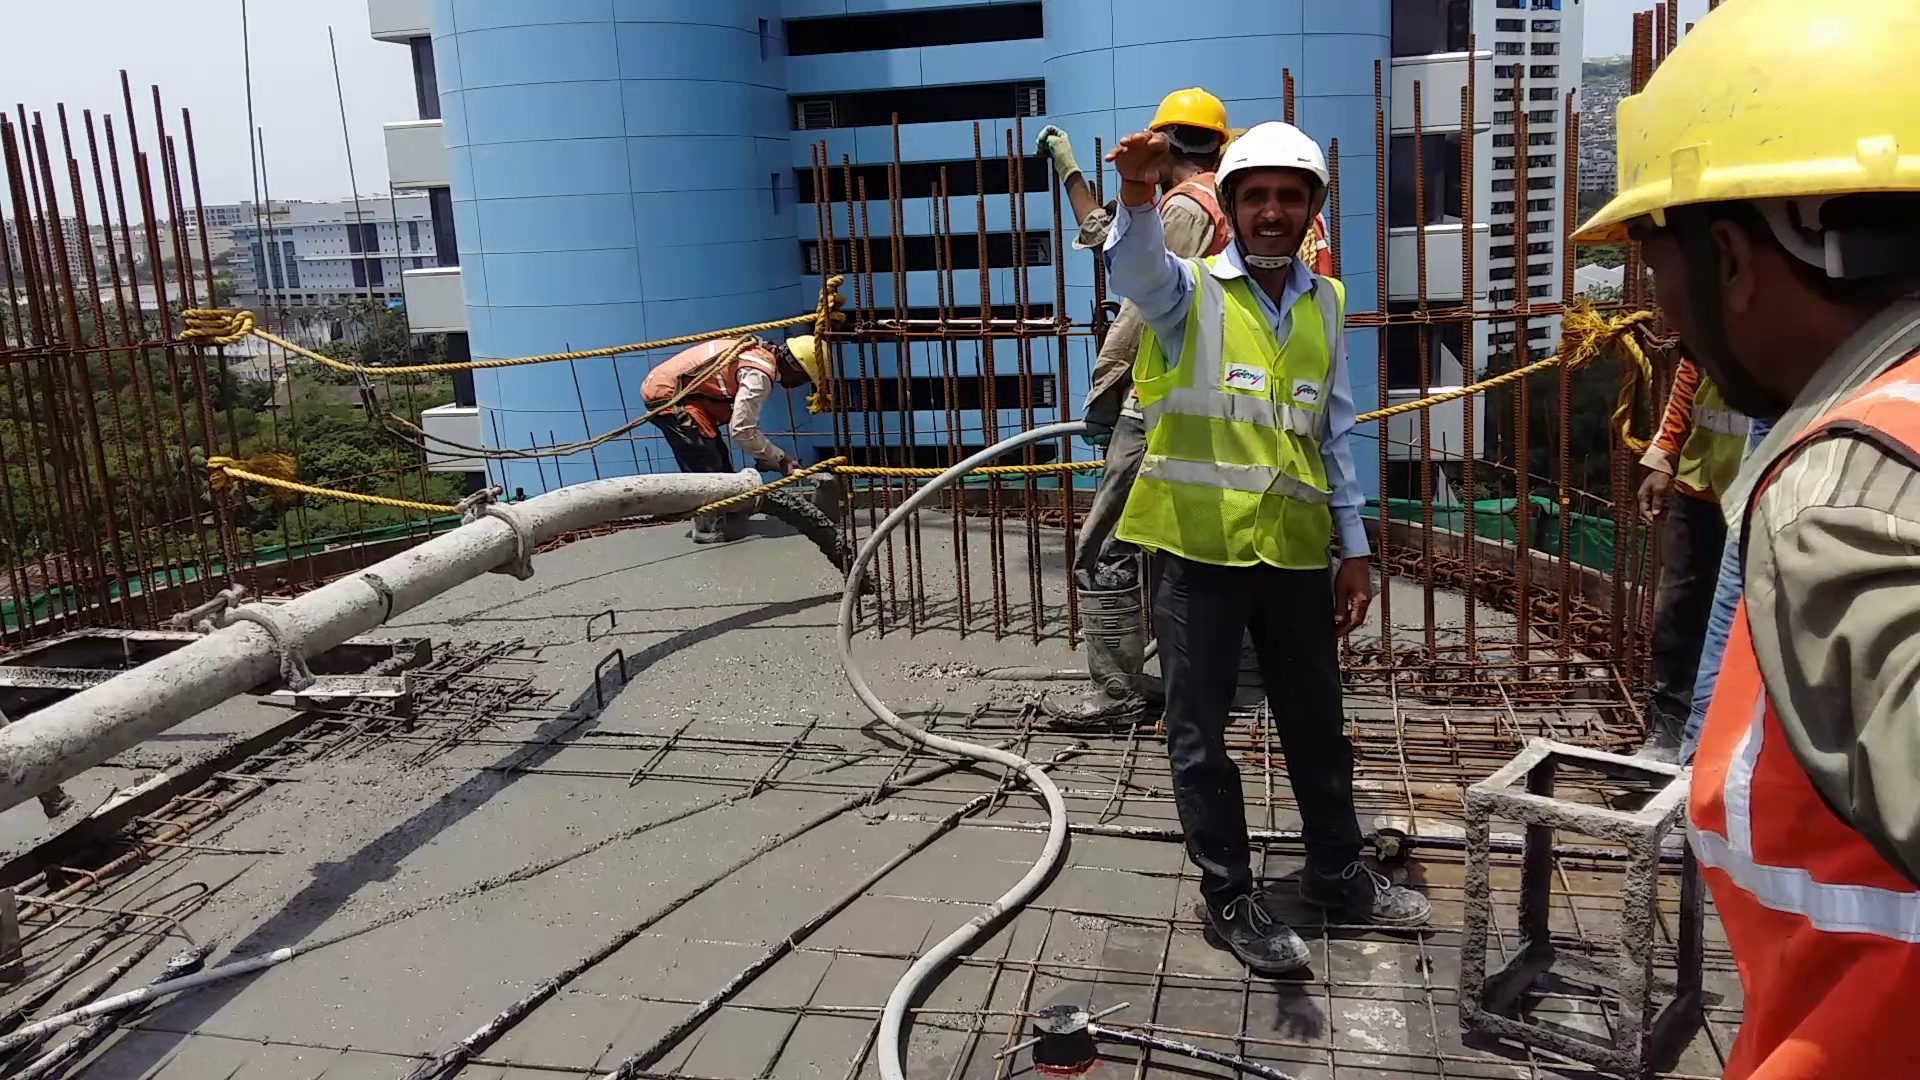SAFE: (1615, 1, 1920, 1068), (1142, 119, 1344, 568)
